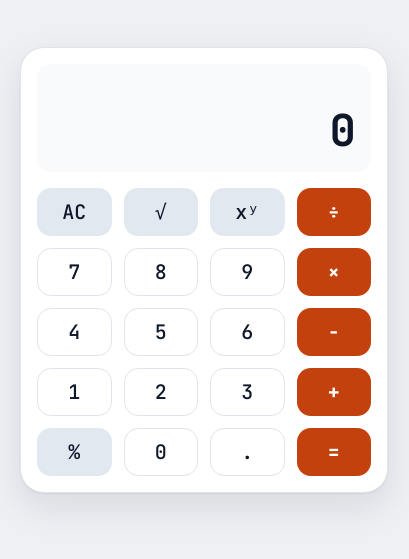
it: Calculator › reports a division by zero without losing the entry
This screenshot has width=409, height=559.
Click the button "8" at x=161, y=272, box [124, 248, 198, 296]
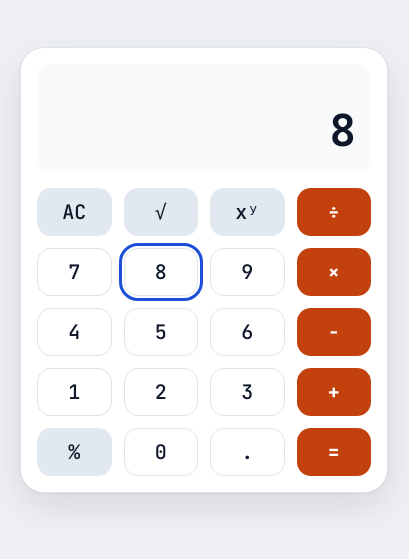
Click the button named "Divide" at x=334, y=212, box [296, 188, 371, 236]
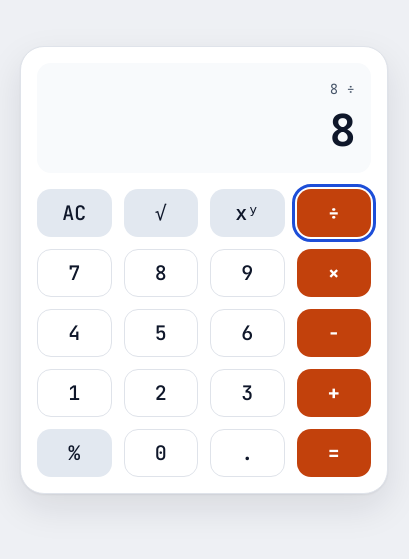
Click the button "0" at x=161, y=453, box [124, 429, 198, 477]
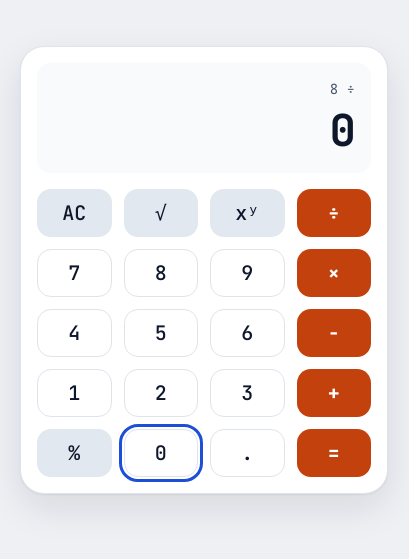
Click the button named "Equals" at x=334, y=453, box [296, 429, 371, 477]
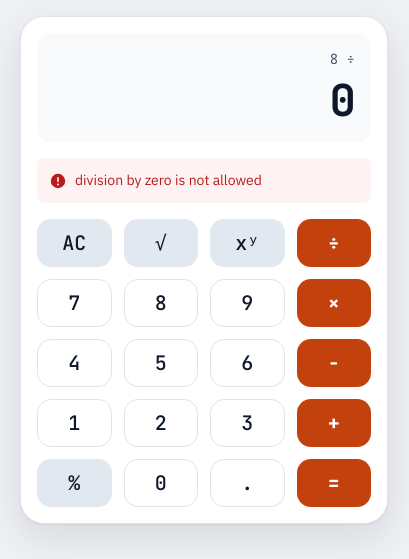
Expected: the message reads "division by zero is not allowed", [75, 171, 262, 189]
